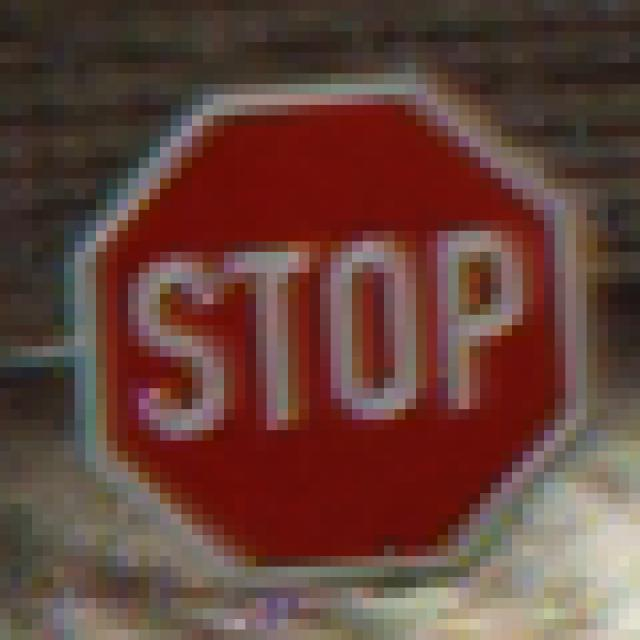STOP: (54, 64, 588, 588)
